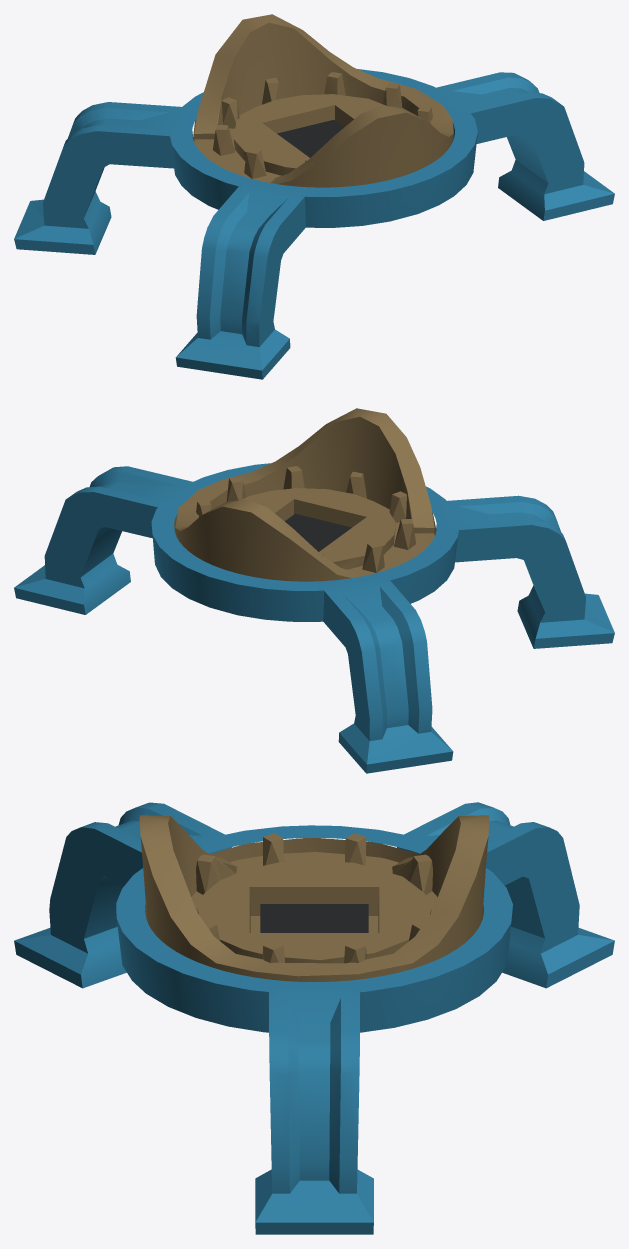
File: fast-inserter-east.glb
The picture shows the model from 3 angles, top to bottom: view 1: azimuth 30°, elevation 25°; view 2: azimuth 150°, elevation 25°; view 3: azimuth 270°, elevation 25°; orthographic projection. The views are drawn at different scales.
Parts seen in each view (by area): view 1: body; view 2: body; view 3: body.
Boxes of the visible parts, x1,y1,x2,y2 form: body: (14,14,614,379); body: (14,408,614,773); body: (14,802,614,1234).
Size of the model in its own units: 1.15 by 0.4164 by 0.9298.
